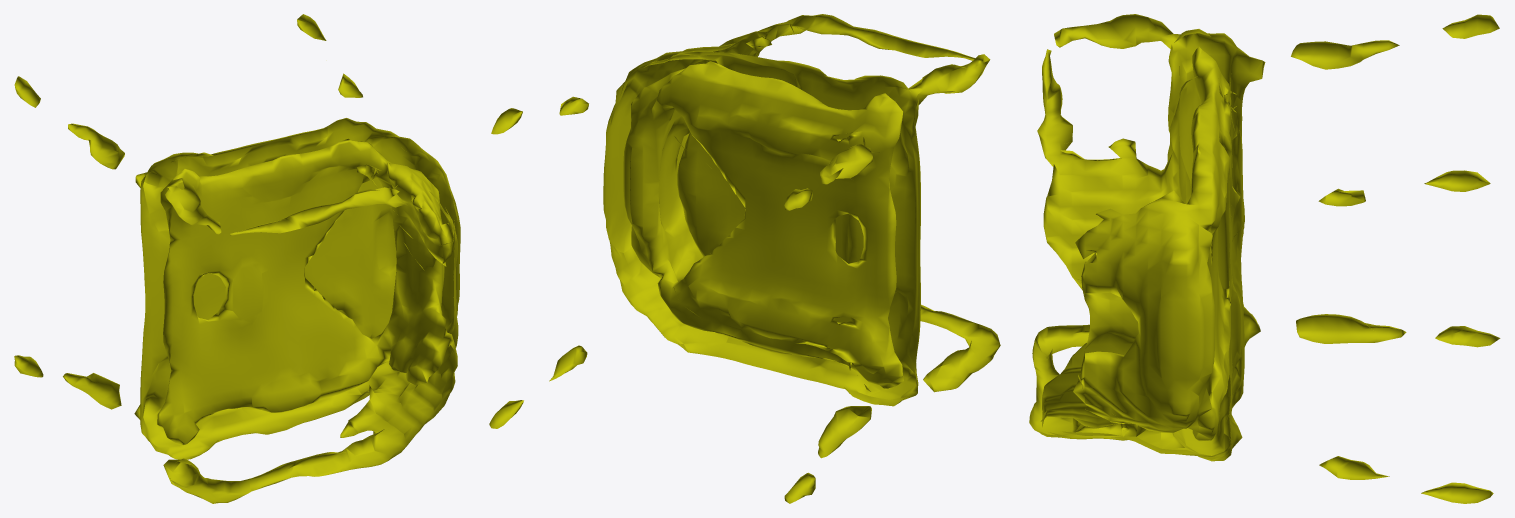
3 views of the same model, side by side, from view 1: azimuth 30°, elevation 25°; view 2: azimuth 150°, elevation 25°; view 3: azimuth 270°, elevation 25° (orthographic). The views are drawn at different scales.
Parts seen in each view (by area): view 1: world; view 2: world; view 3: world.
Part boxes in pixels (box(x1,y1,x2,y2)): world: box(14, 14, 460, 503); world: box(489, 14, 1000, 503); world: box(1029, 14, 1500, 503).
Bounding box in the file's own units: 31.78 × 29.88 × 37.22.
